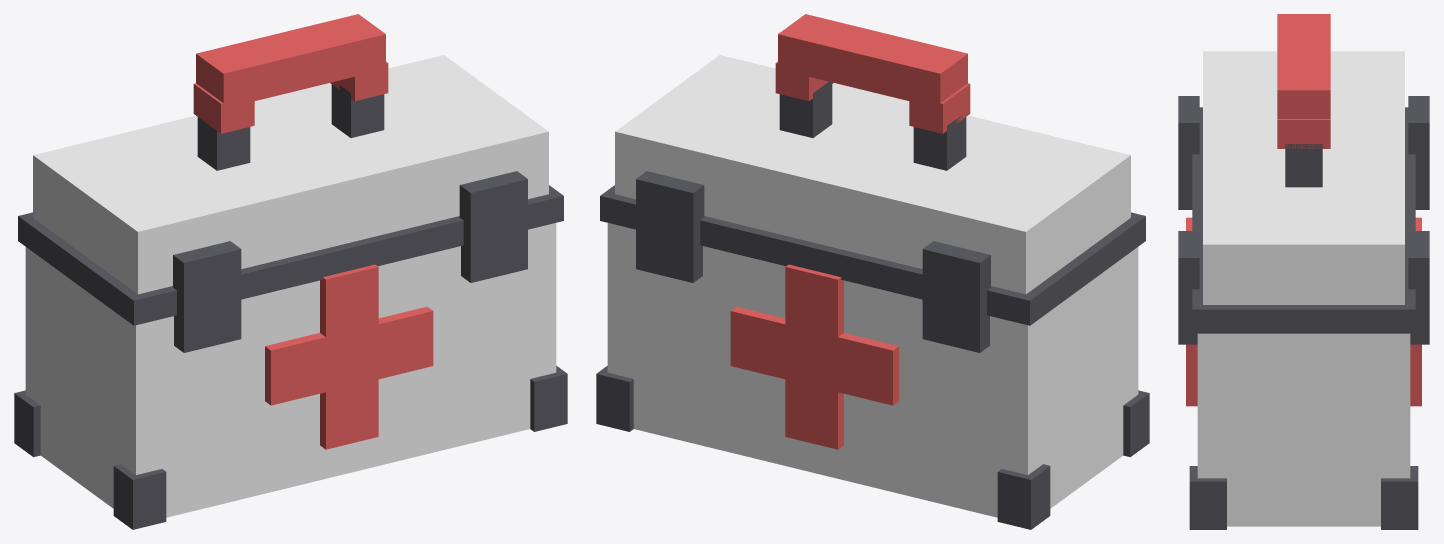
Rendered from medkit.glb.
The picture shows the model from 3 angles, left to right: view 1: azimuth 30°, elevation 25°; view 2: azimuth 150°, elevation 25°; view 3: azimuth 270°, elevation 25°; orthographic projection. The views are drawn at different scales.
Visible parts, largest first — view 1: Medkit; view 2: Medkit; view 3: Medkit.
Boxes of the visible parts, bbox=[...] form: Medkit: bbox=[14, 14, 567, 529]; Medkit: bbox=[596, 14, 1149, 529]; Medkit: bbox=[1178, 14, 1429, 529].
Size of the model in its own units: 0.455 by 0.3895 by 0.236.
